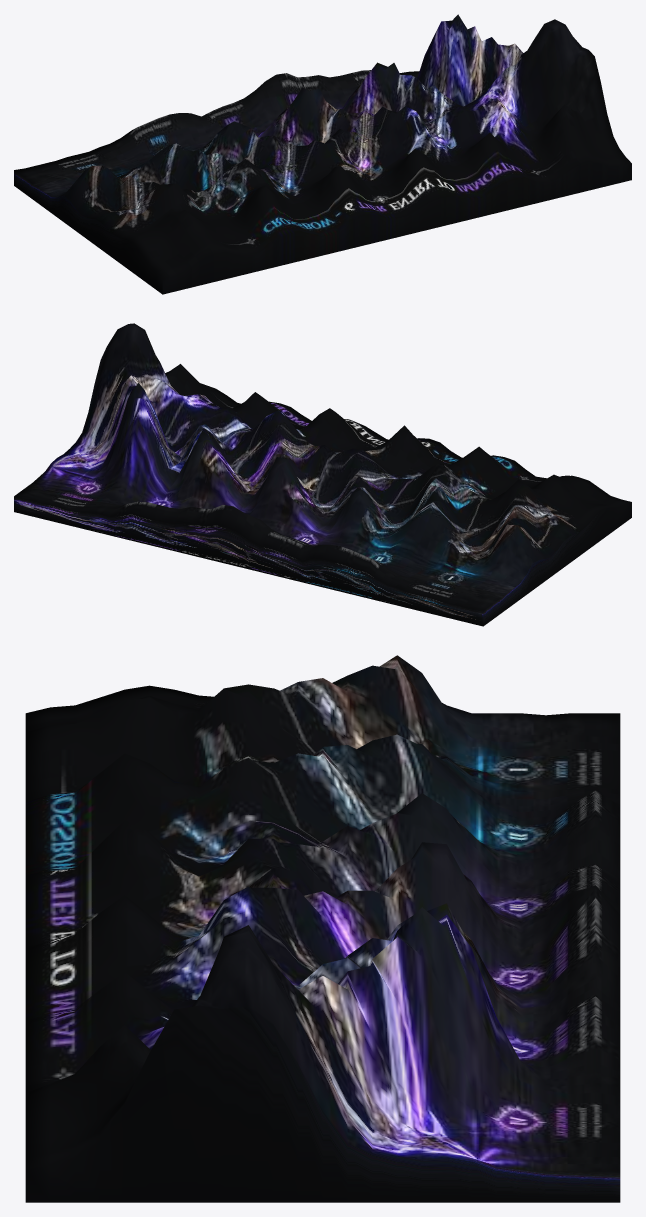
Rendered from ARSENAL_Crossbow_6Tier.glb.
3 renders of one model, top to bottom at view 1: azimuth 30°, elevation 25°; view 2: azimuth 150°, elevation 25°; view 3: azimuth 270°, elevation 25°, orthographic. The views are drawn at different scales.
Visible parts, largest first — view 1: ARSENAL_Crossbow_6Tier; view 2: ARSENAL_Crossbow_6Tier; view 3: ARSENAL_Crossbow_6Tier.
Boxes of the visible parts, bbox=[...] form: ARSENAL_Crossbow_6Tier: bbox=[14, 14, 631, 294]; ARSENAL_Crossbow_6Tier: bbox=[14, 323, 631, 626]; ARSENAL_Crossbow_6Tier: bbox=[25, 655, 620, 1202].
Size of the model in its own units: 2 by 0.51 by 1.1.
Materials: 1 (1 with a texture image).
